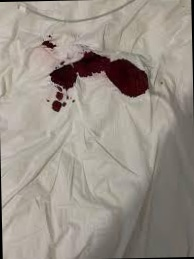blood: (49, 51, 150, 108)
